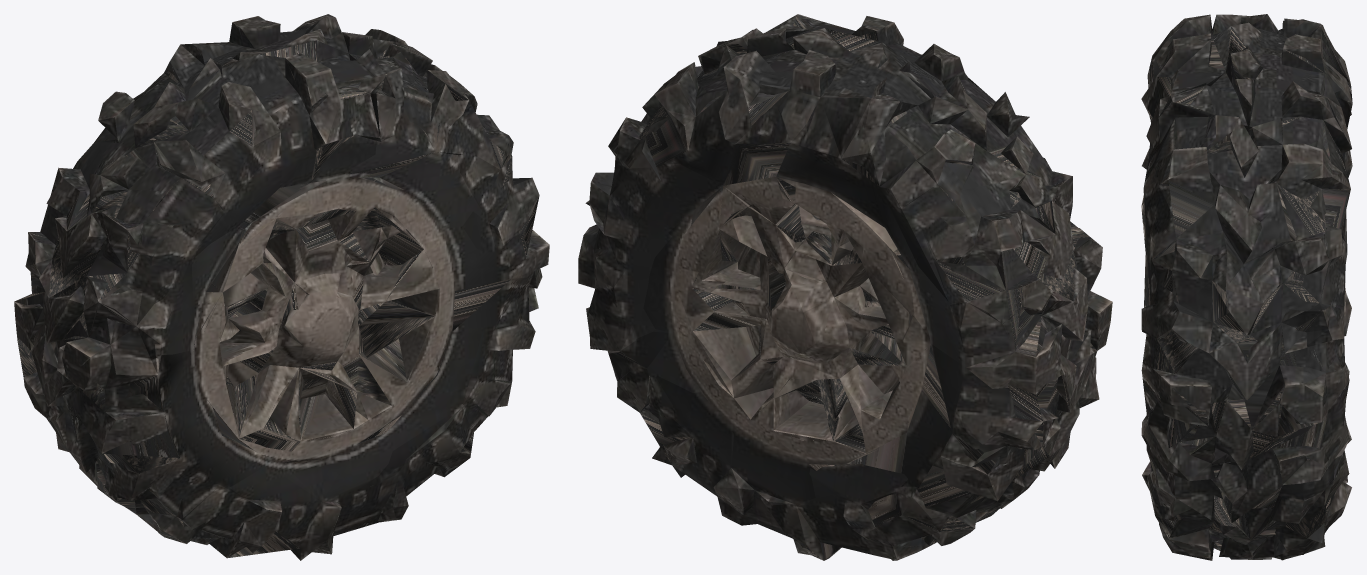
File: offroad_tire.glb
The picture shows the model from 3 angles, left to right: view 1: azimuth 30°, elevation 25°; view 2: azimuth 150°, elevation 25°; view 3: azimuth 270°, elevation 25°; orthographic projection.
Visible parts, largest first — view 1: model, mesh_lod; view 2: model, mesh_lod; view 3: model, mesh_lod.
Boxes of the visible parts, x1,y1,x2,y2 form: model: (14,14,549,560); mesh_lod: (14,40,547,558); model: (578,14,1112,560); mesh_lod: (578,14,1112,560); model: (1141,14,1352,560); mesh_lod: (1141,16,1352,559).
Size of the model in its own units: 0.8296 by 0.8279 by 0.32.
1 material, 1 textured.
